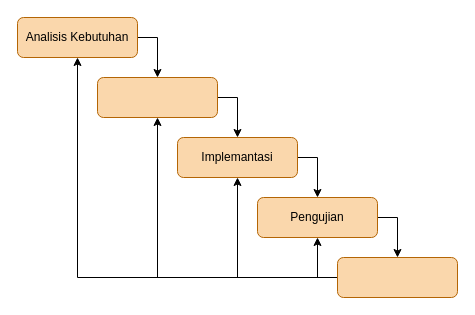
The diagram is 475 pixels wide and 315 high, and some of its shapes have lost their labels. The shapes that lost their labels are listed below. From the top down, each one's centre as x and y in pixels, then its label:
(x=157, y=97): Design
(x=397, y=277): Pemeliharaan Sistem
